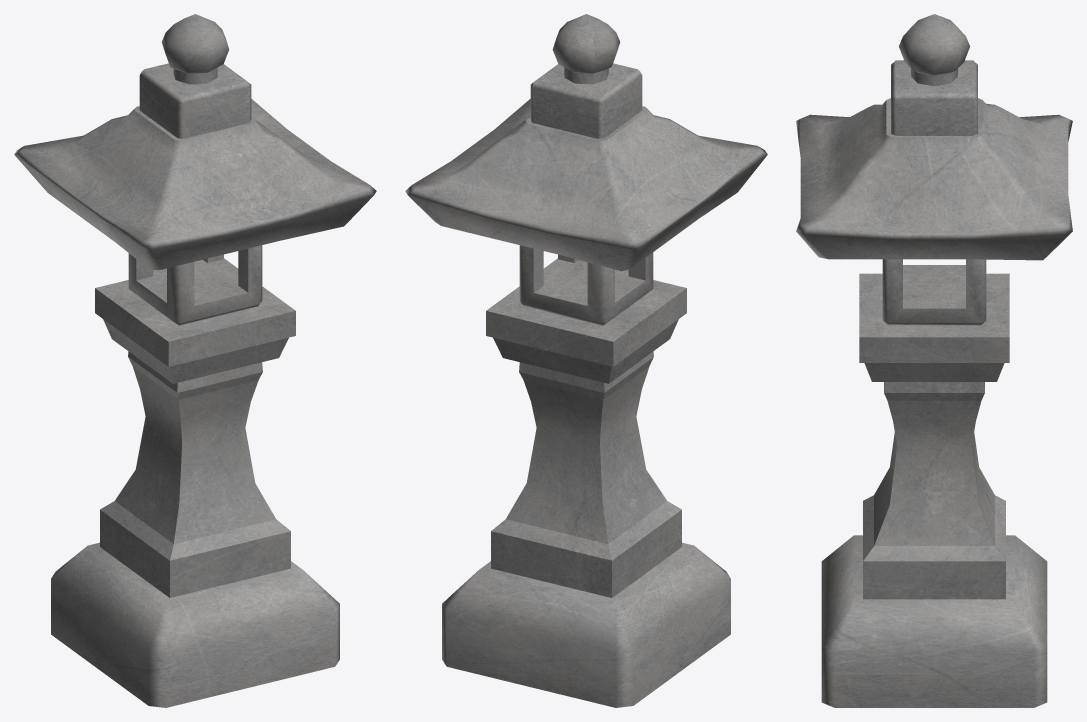
Rendered from SM_Toro_01.fbx.
The picture shows the model from 3 angles, left to right: view 1: azimuth 30°, elevation 25°; view 2: azimuth 150°, elevation 25°; view 3: azimuth 270°, elevation 25°; orthographic projection. The views are drawn at different scales.
Visible parts, largest first — view 1: SM_Toro_01; view 2: SM_Toro_01; view 3: SM_Toro_01.
Part boxes in pixels (box(x1,y1,x2,y2)): SM_Toro_01: box(14, 14, 376, 707); SM_Toro_01: box(405, 14, 767, 707); SM_Toro_01: box(796, 14, 1072, 707).
Size of the model in its own units: 9.98 by 25.71 by 9.98.
